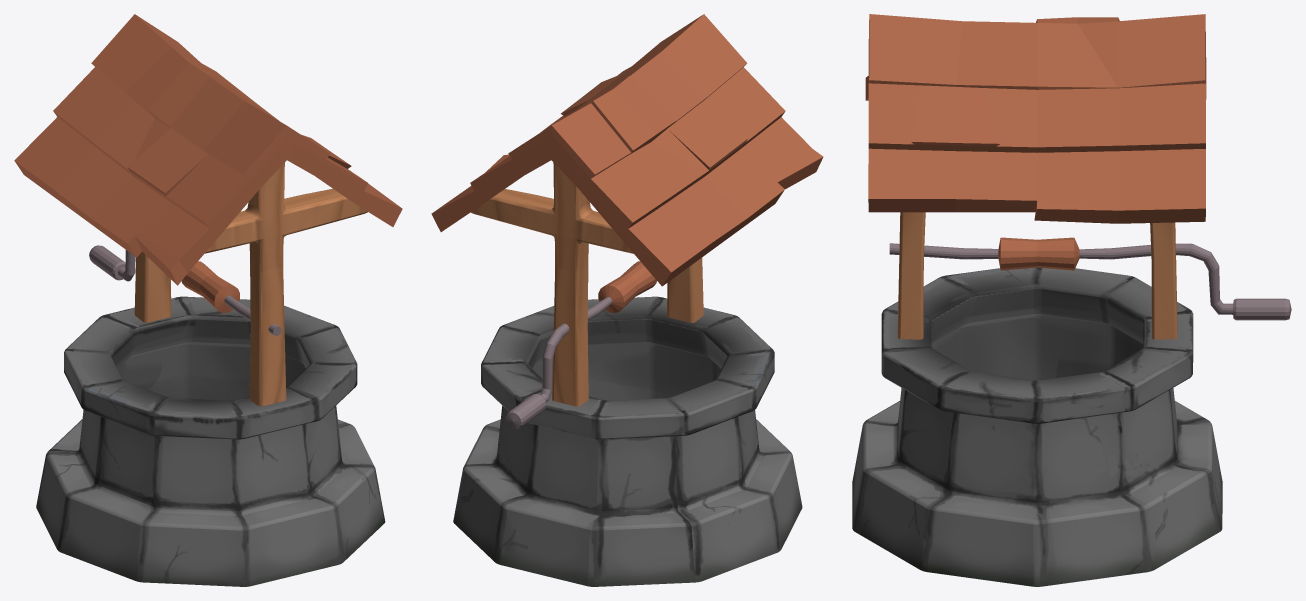
File: Well.fbx
3 renders of one model, left to right at view 1: azimuth 30°, elevation 25°; view 2: azimuth 150°, elevation 25°; view 3: azimuth 270°, elevation 25°, orthographic. The views are drawn at different scales.
Visible parts, largest first — view 1: Well, Cube.060, Cube.061, Cylinder.002; view 2: Well, Cube.060, Cube.061, Cylinder.002; view 3: Well, Cube.060, Cylinder.002, Cube.061.
Boxes of the visible parts, box(x1,y1,x2,y2) form: Well: box(36, 296, 385, 586); Cube.060: box(14, 14, 402, 285); Cube.061: box(134, 163, 367, 406); Cylinder.002: box(89, 245, 281, 335); Well: box(453, 296, 802, 586); Cube.060: box(431, 14, 823, 286); Cube.061: box(471, 162, 703, 406); Cylinder.002: box(506, 261, 656, 428); Well: box(852, 267, 1222, 586); Cube.060: box(865, 14, 1206, 223); Cylinder.002: box(889, 237, 1291, 320); Cube.061: box(897, 212, 1177, 339).
Bounding box in the file's own units: 1162 × 1624 × 1316.
4 materials, 2 textured.
